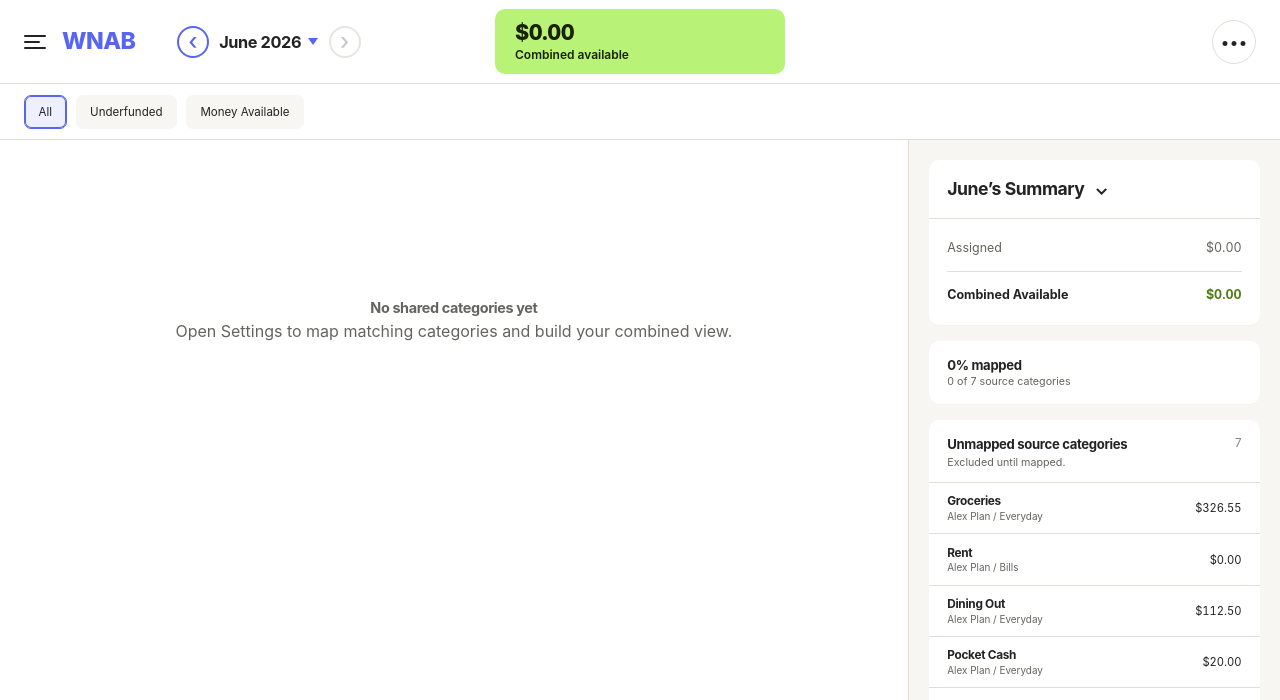
WNAB app › keeps plan selection and category mapping in Settings and removes refresh from the budget
Expected: the button with aria-label "Choose month, June 2026" is shown, [217,26,321,57]
Expected: the heading "Unmapped source categories" is shown, [947,436,1127,452]
Click the button named "More options" at x=1234, y=42, box [1212,20,1256,64]
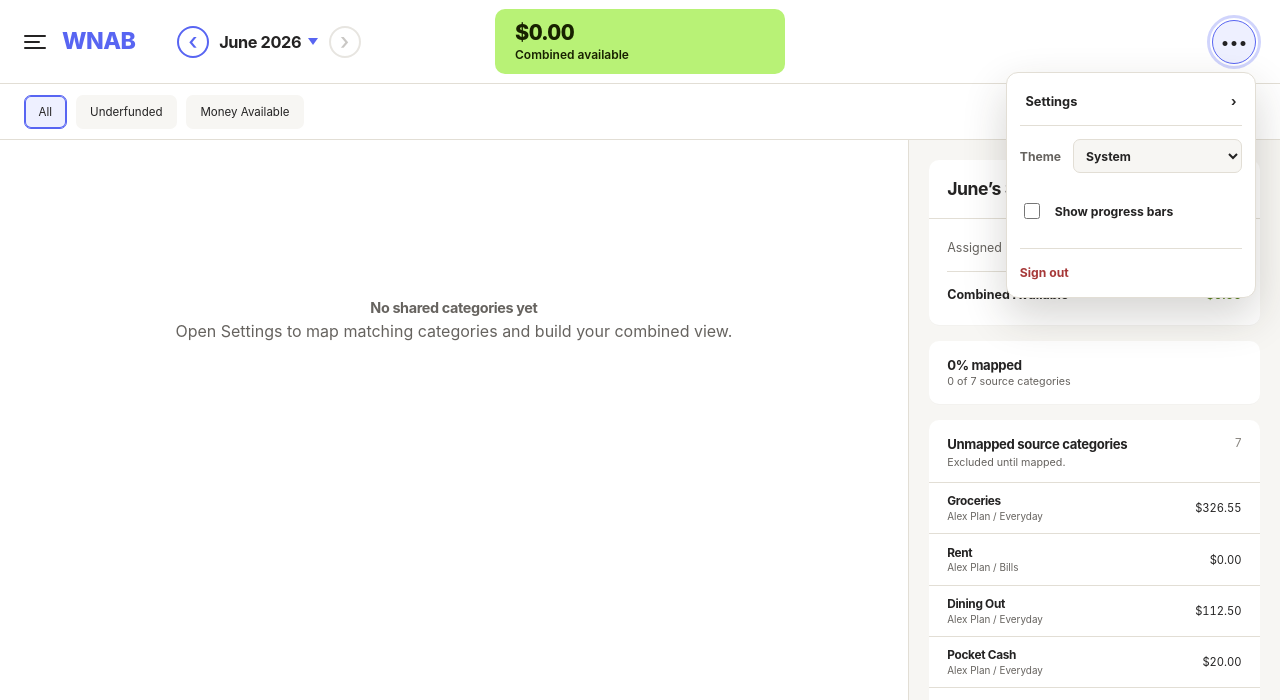
Click the button "Settings ›" at x=1131, y=106, box [1020,86,1242,126]
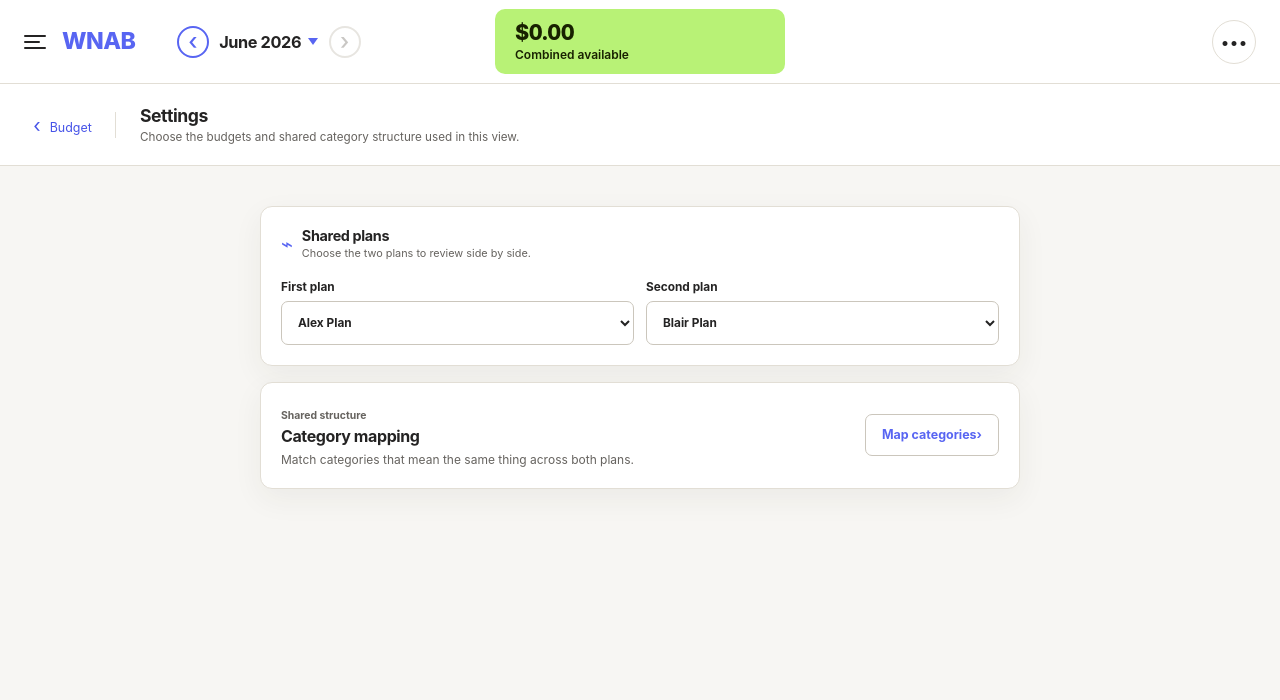
Now the dropdown named "Your plan" shows "Alex Plan", box [281,301,634,345]
Now the dropdown named "Partner plan" shows "Blair Plan", box [646,301,999,345]
Now the button "Map categories ›" is shown, box [865,414,999,456]
